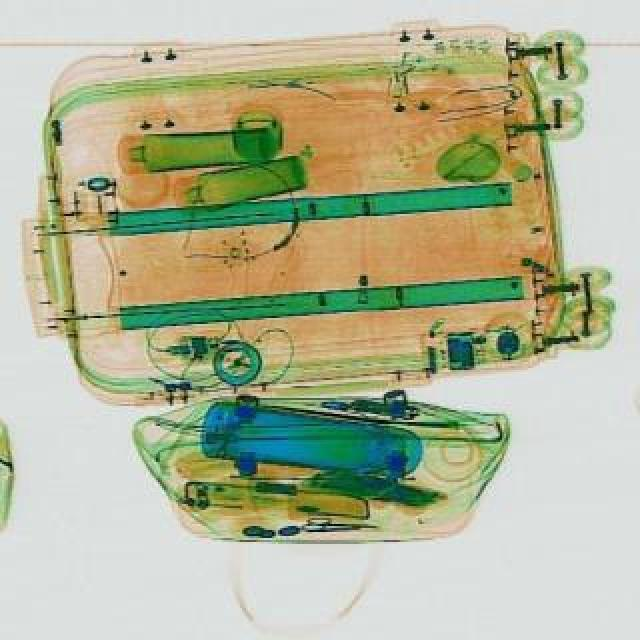pliers: (298, 514, 378, 534)
